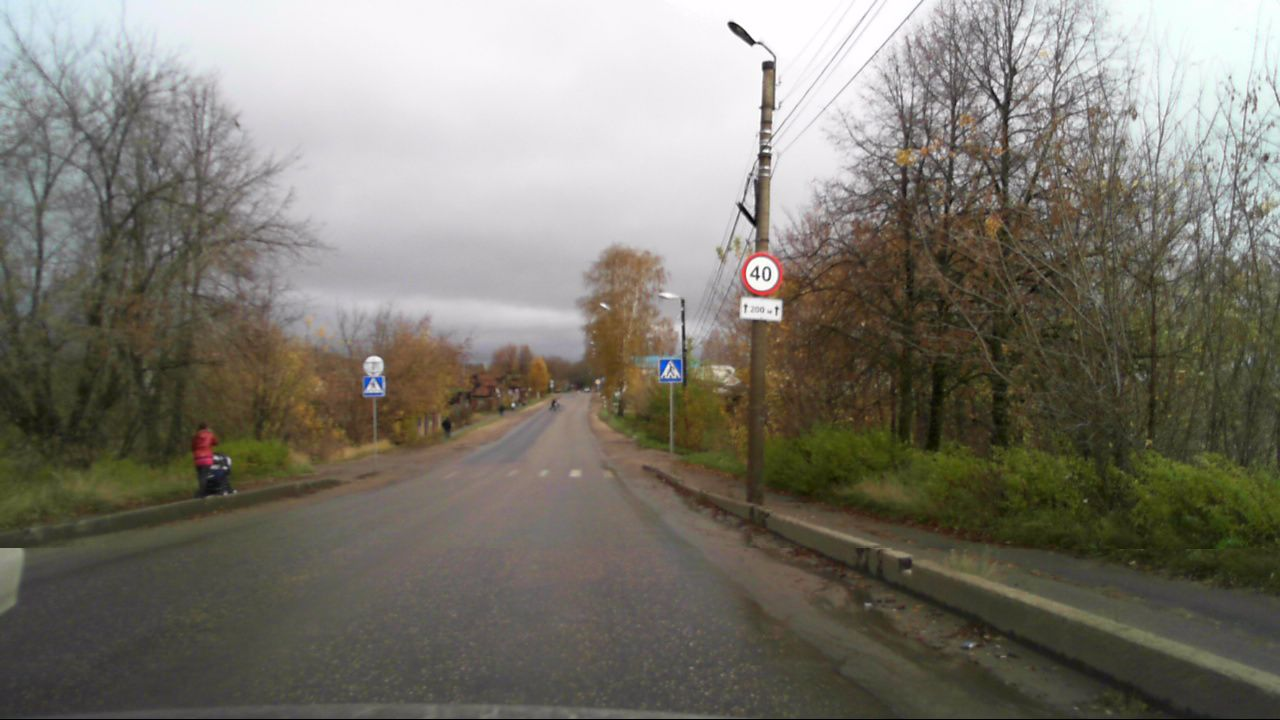speed_warning_40: (739, 253, 783, 295)
